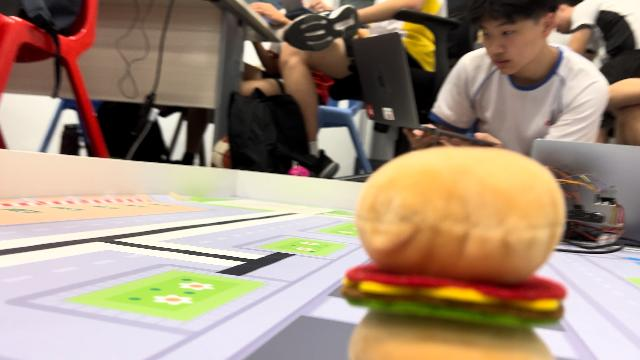burger: (352, 142, 568, 360)
